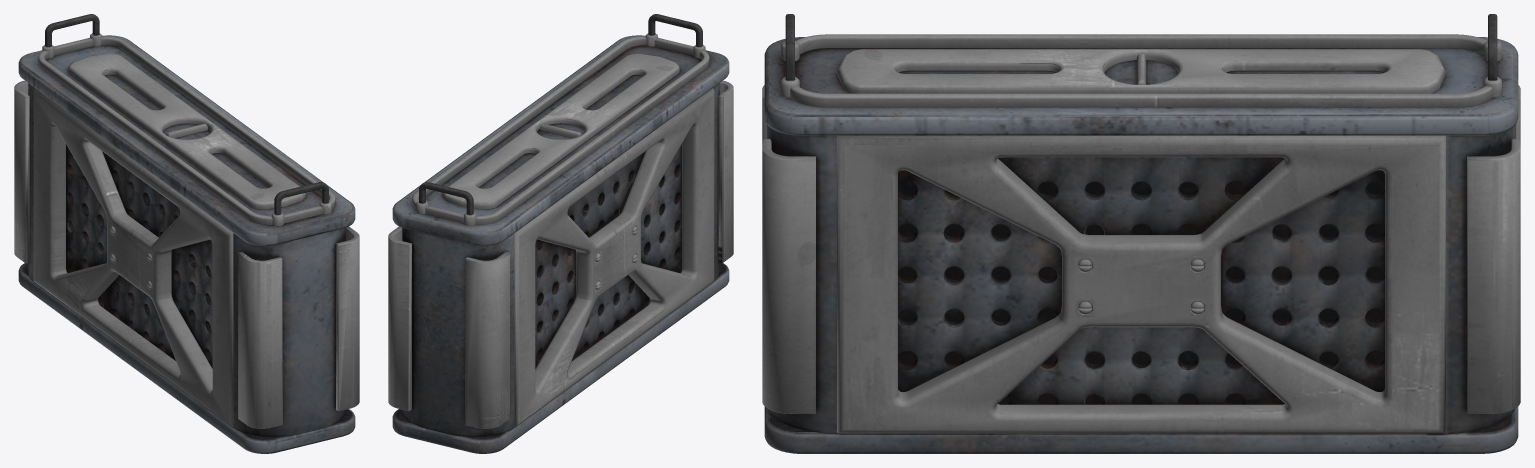
File: sci_box.fbx
3 views of the same model, side by side, from view 1: azimuth 30°, elevation 25°; view 2: azimuth 150°, elevation 25°; view 3: azimuth 270°, elevation 25° (orthographic). The views are drawn at different scales.
Parts seen in each view (by area): view 1: Box; view 2: Box; view 3: Box.
Part boxes in pixels (x1,y1,x2,y2): Box: (14, 14, 359, 453); Box: (388, 14, 733, 453); Box: (762, 14, 1520, 453).
Bounding box in the file's own units: 162 × 43.16 × 91.
1 material, 1 textured.
